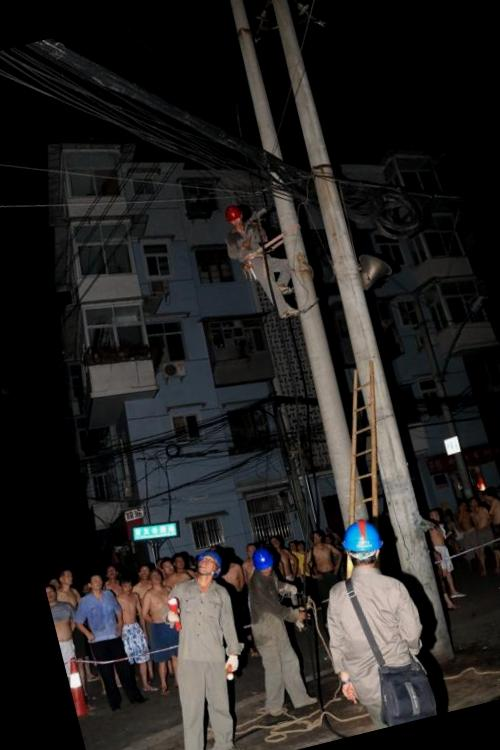no_helmet: (168, 548, 192, 574), (84, 572, 106, 596), (144, 566, 165, 589), (57, 567, 77, 590), (158, 556, 176, 580), (308, 527, 326, 550), (116, 574, 135, 594), (133, 562, 152, 582), (426, 505, 444, 525), (264, 536, 283, 553), (242, 540, 258, 560), (102, 563, 118, 582)
